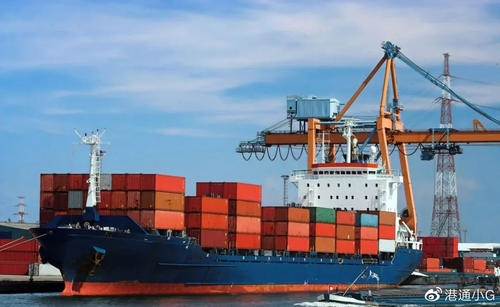Cargoship: (25, 122, 424, 302)
otherboat: (315, 269, 386, 304)
